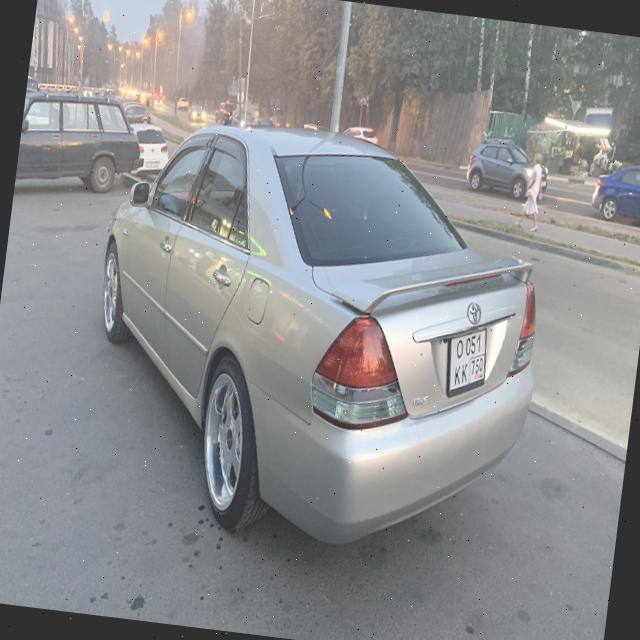number-plates: (442, 324, 492, 404)
